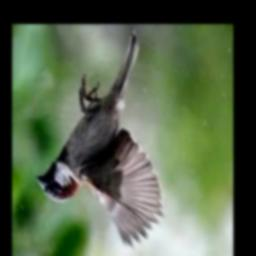Sparrow: (37, 32, 163, 249)
